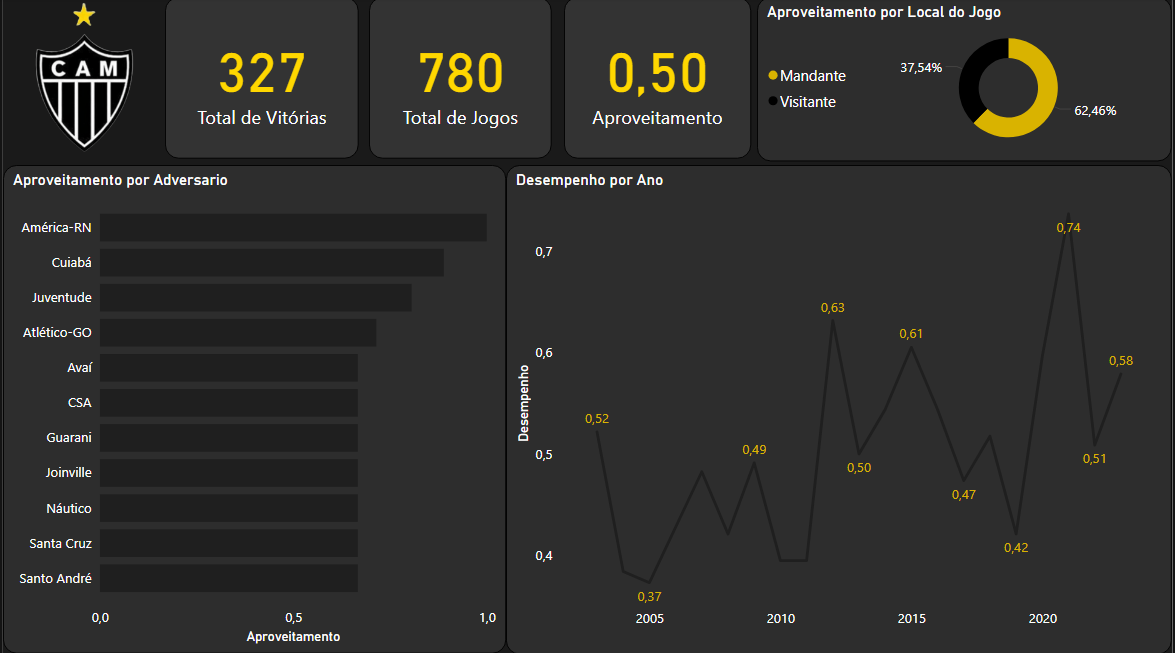

The page's visual inventory and layout, read from the dashboard file:
{"tool":"powerbi","page":{"name":"Página 1","canvas":[1280,720],"ordinal":0},"visuals":[{"type":"card","fields":{"Values":["base_dados_galo_powerbi.%Aproveitamento"]},"box":[614.2,0,204.7,177.4],"z":0},{"type":"card","fields":{"Values":["base_dados_galo_powerbi.Total de Jogos"]},"box":[400.4,0,200.2,177.4],"z":1000},{"type":"card","fields":{"Values":["base_dados_galo_powerbi.Total de Jogos"]},"box":[177.4,0,212.3,177.4],"z":2000},{"type":"actionButton","box":[0,0,100,40],"z":3000},{"type":"lineChart","fields":{"Category":["base_dados_galo_powerbi.year"],"Y":["base_dados_galo_powerbi.%Aproveitamento"]},"box":[551,183.7,729,535.9],"z":4000},{"type":"donutChart","fields":{"Category":["base_dados_galo_powerbi.Local do Jogo"],"Y":["base_dados_galo_powerbi.%Aproveitamento"]},"box":[825.6,0,454.4,179.9],"z":5000},{"type":"barChart","fields":{"Category":["base_dados_galo_powerbi.Adversario"],"Y":["base_dados_galo_powerbi.%Aproveitamento"]},"box":[0,178,551,541.5],"z":6000},{"type":"image","box":[0,0,176.9,180.3],"z":7000},{"type":"image","box":[64.4,0,48.9,40],"z":8000}]}

Visuals, with their boxes in screenshot pixels (x1, y1, x2, y2), scaled from the page's 1280x720 canvas onto the 1175x653 screenshot:
card - base_dados_galo_powerbi.%Aproveitamento: <region>564, 0, 752, 161</region>
card - base_dados_galo_powerbi.Total de Jogos: <region>368, 0, 551, 161</region>
card - base_dados_galo_powerbi.Total de Jogos: <region>163, 0, 358, 161</region>
actionButton: <region>0, 0, 92, 36</region>
lineChart - base_dados_galo_powerbi.year x base_dados_galo_powerbi.%Aproveitamento: <region>506, 167, 1174, 652</region>
donutChart - base_dados_galo_powerbi.Local do Jogo x base_dados_galo_powerbi.%Aproveitamento: <region>758, 0, 1174, 163</region>
barChart - base_dados_galo_powerbi.Adversario x base_dados_galo_powerbi.%Aproveitamento: <region>0, 161, 506, 652</region>
image: <region>0, 0, 162, 164</region>
image: <region>59, 0, 104, 36</region>
